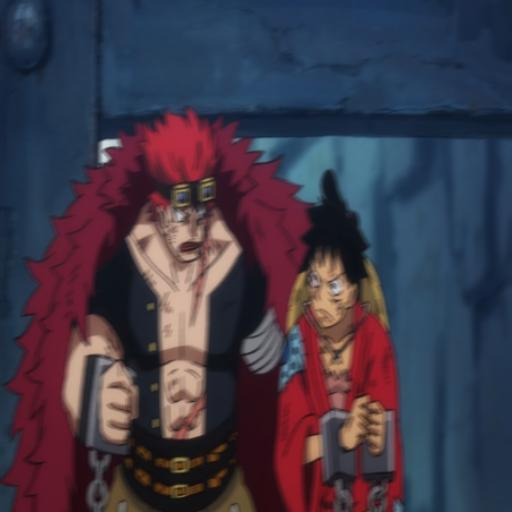Luffy: (274, 158, 390, 512)
